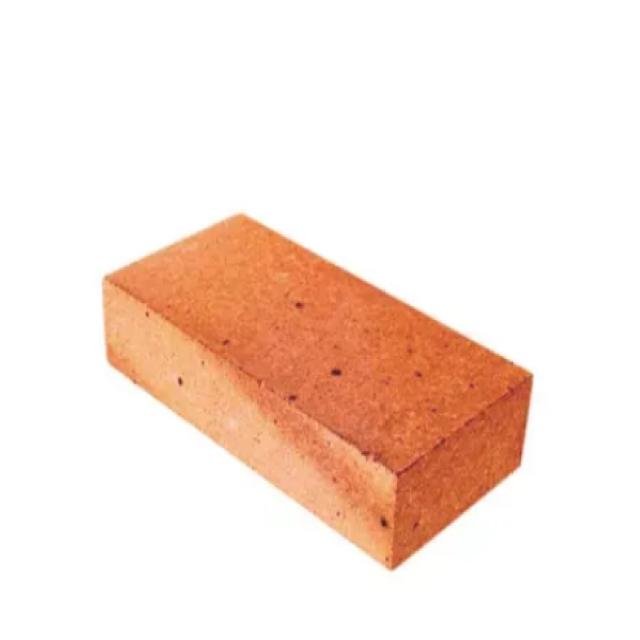bricks: (101, 211, 533, 571)
